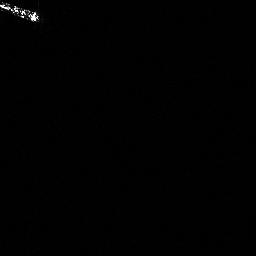ship: (1, 1, 43, 26)
